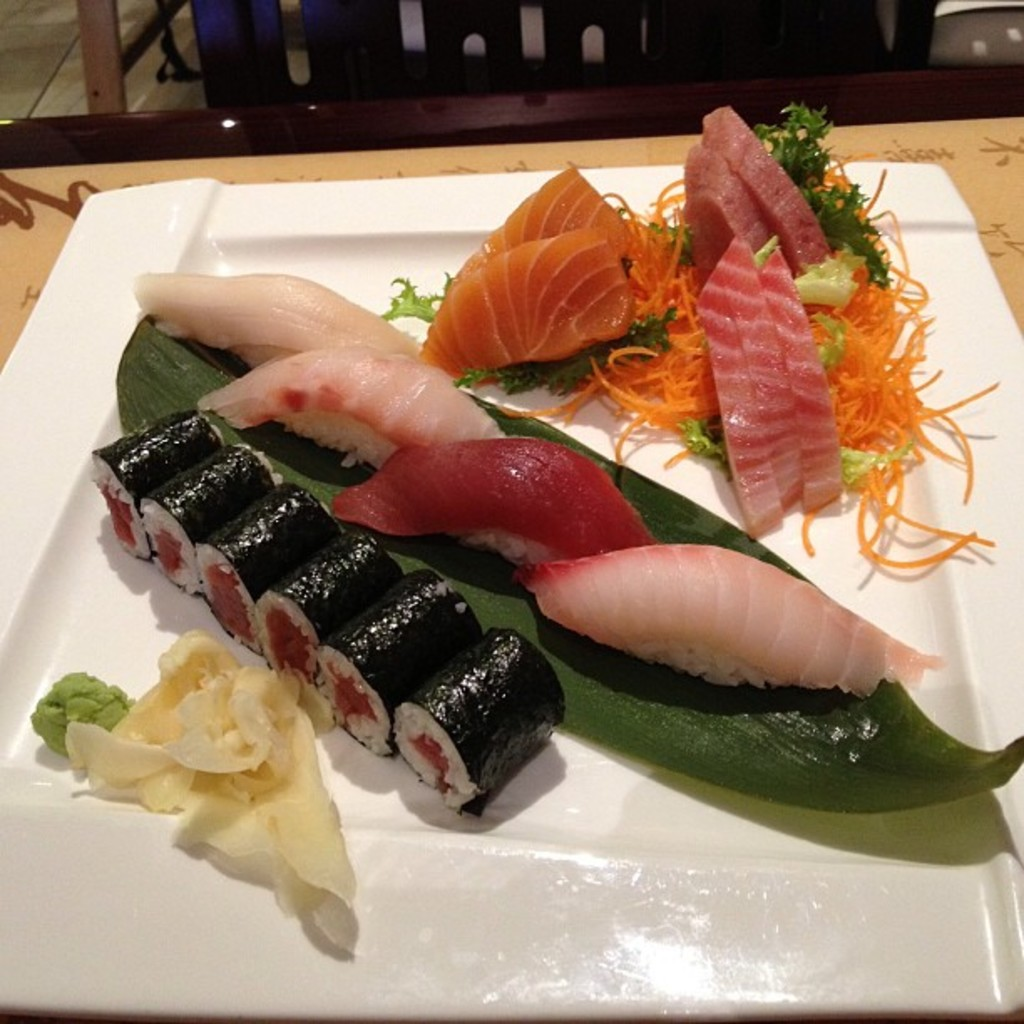sushi: (92, 400, 567, 801), (425, 110, 830, 527), (524, 532, 949, 688), (335, 433, 653, 562), (211, 343, 507, 463), (124, 273, 428, 361), (87, 402, 233, 569)
